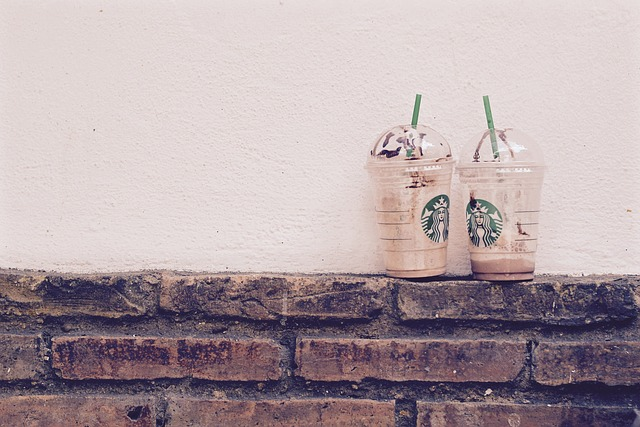cup: (459, 104, 563, 286), (351, 111, 461, 277)
